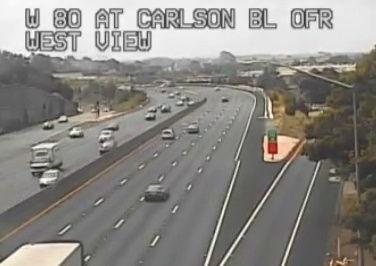car: (145, 184, 168, 201), (161, 129, 174, 140)
